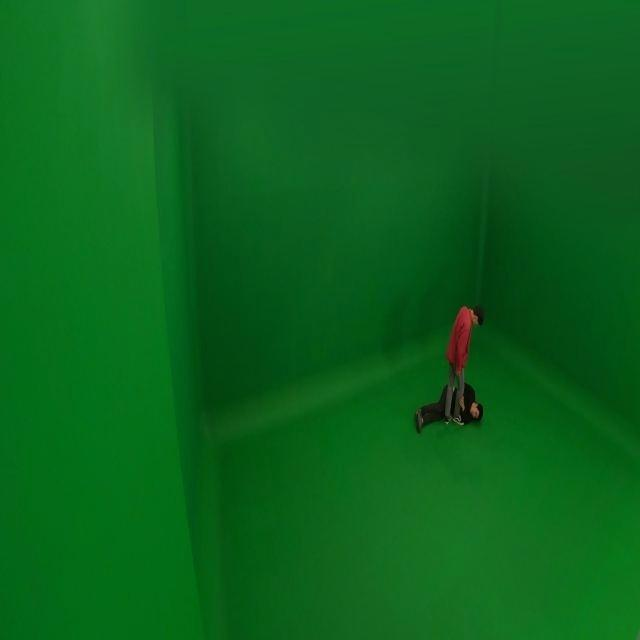fight: (418, 299, 486, 429)
